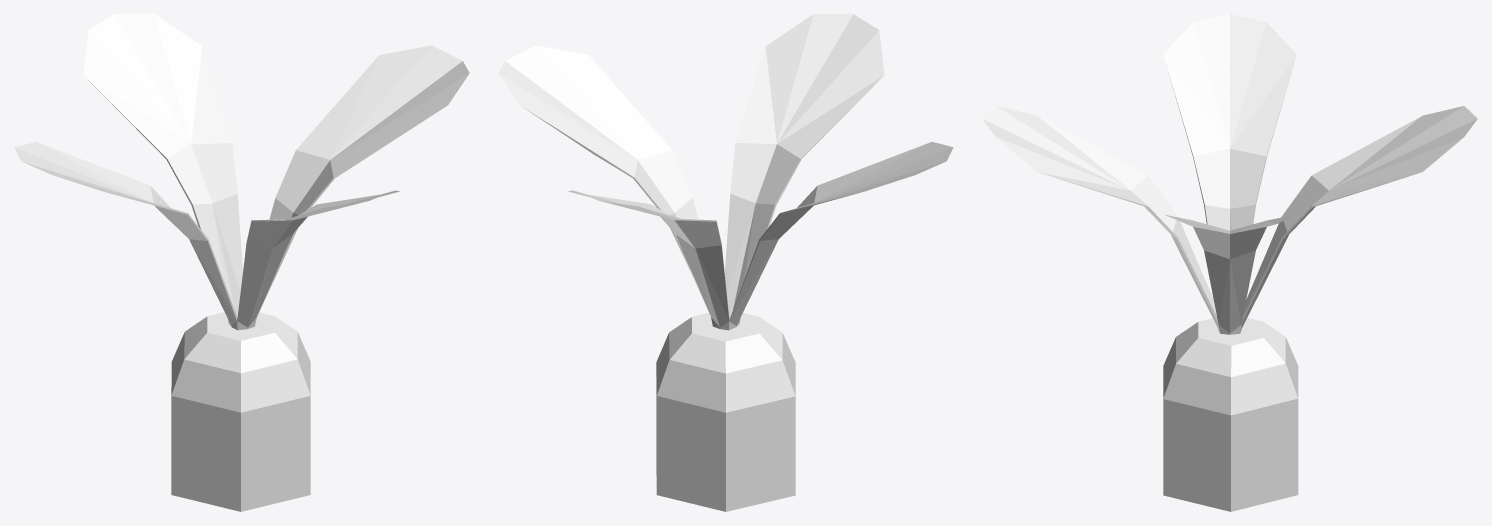
Rendered from Crop_Carrot_STAGE_2_01.glb.
The picture shows the model from 3 angles, left to right: view 1: azimuth 30°, elevation 25°; view 2: azimuth 150°, elevation 25°; view 3: azimuth 270°, elevation 25°; orthographic projection. The views are drawn at different scales.
Parts seen in each view (by area): view 1: Crop_Carrot_STAGE_2_01; view 2: Crop_Carrot_STAGE_2_01; view 3: Crop_Carrot_STAGE_2_01.
Part boxes in pixels (left/top/right/bottom): Crop_Carrot_STAGE_2_01: left=14, top=14, right=469, bottom=511; Crop_Carrot_STAGE_2_01: left=498, top=14, right=953, bottom=511; Crop_Carrot_STAGE_2_01: left=982, top=14, right=1477, bottom=511.
Bounding box in the file's own units: 0.3091 × 0.2479 × 0.3091.
Materials: 1 (1 with a texture image).
